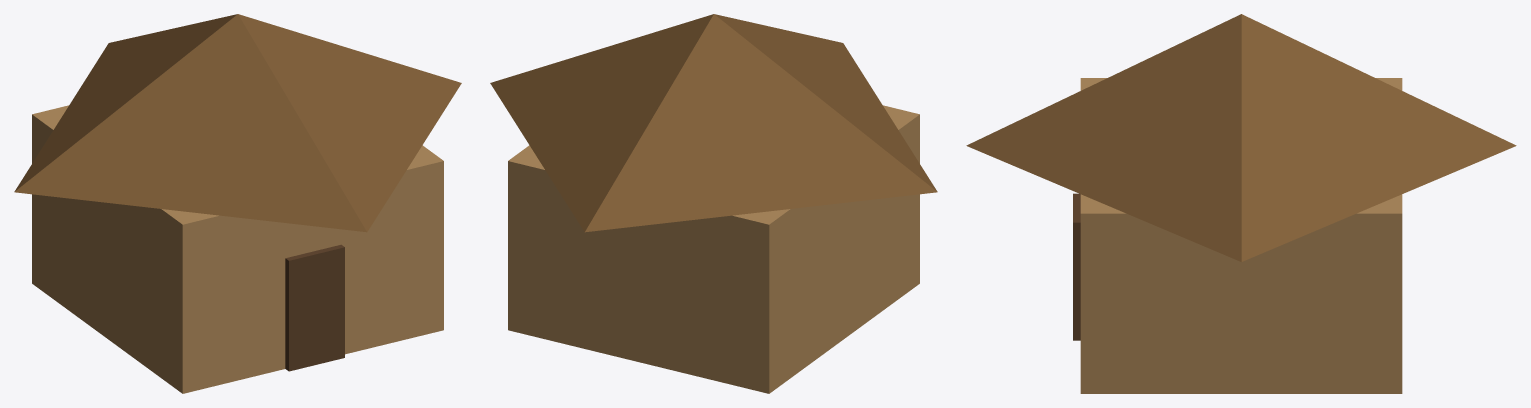
Rendered from building_hut_01.glb.
3 renders of one model, left to right at view 1: azimuth 30°, elevation 25°; view 2: azimuth 150°, elevation 25°; view 3: azimuth 270°, elevation 25°, orthographic. The views are drawn at different scales.
Visible parts, largest first — view 1: building_hut_01_part1, building_hut_01_part0, building_hut_01_part2; view 2: building_hut_01_part1, building_hut_01_part0; view 3: building_hut_01_part1, building_hut_01_part0, building_hut_01_part2.
Part boxes in pixels (box(x1,y1,x2,y2)): building_hut_01_part1: box(14, 14, 461, 232); building_hut_01_part0: box(32, 105, 443, 393); building_hut_01_part2: box(285, 244, 344, 371); building_hut_01_part1: box(490, 14, 937, 232); building_hut_01_part0: box(508, 105, 919, 393); building_hut_01_part1: box(966, 14, 1516, 261); building_hut_01_part0: box(1080, 78, 1402, 393); building_hut_01_part2: box(1073, 193, 1080, 340).
Bounding box in the file's own units: 7.2 × 4.5 × 7.2.
